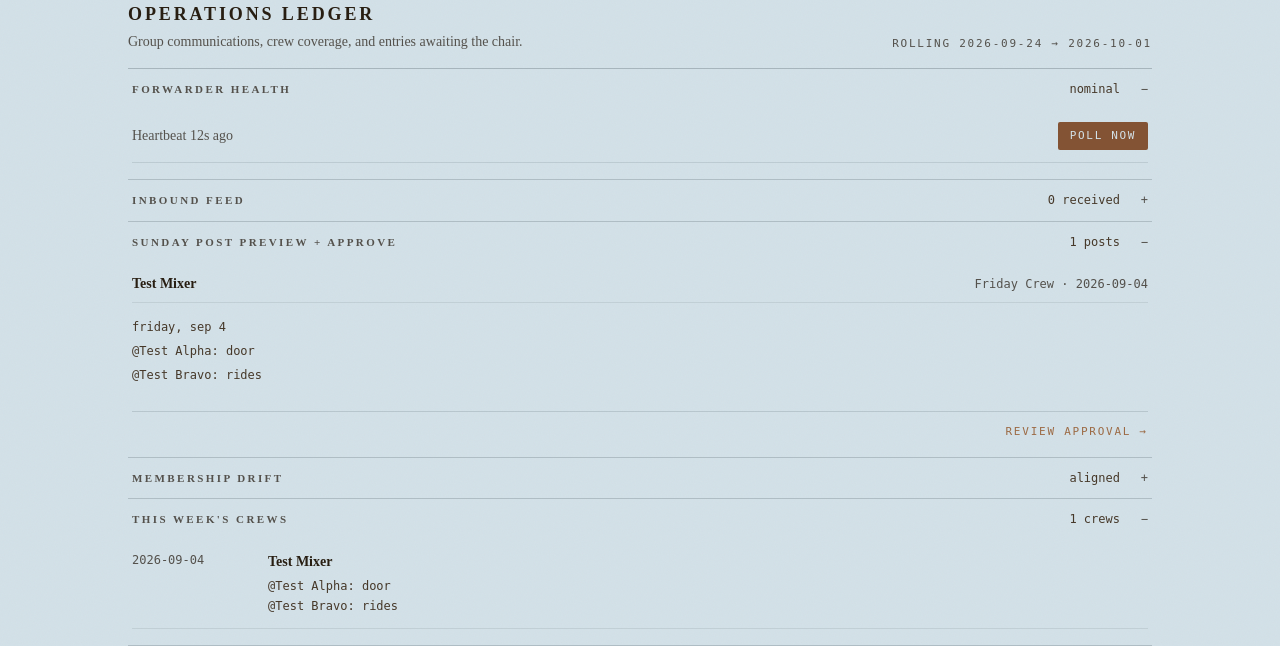
Test: Ops — approving an announcement › gives the server's own reason for an untagged man, not a guess
Click the button "Review approval →" at [1077, 432], box [1006,424,1148,440]
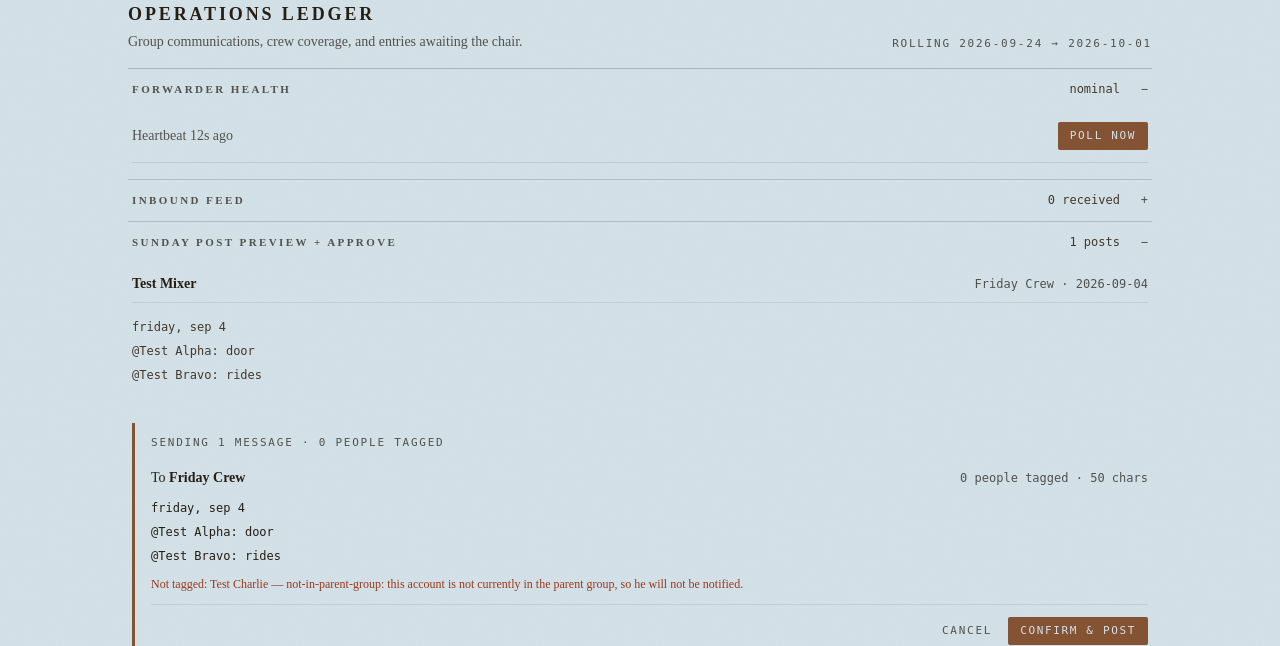
Result: the text "not-in-parent-group: this account is not currently in the parent group" is shown at [286,576,615,590]
